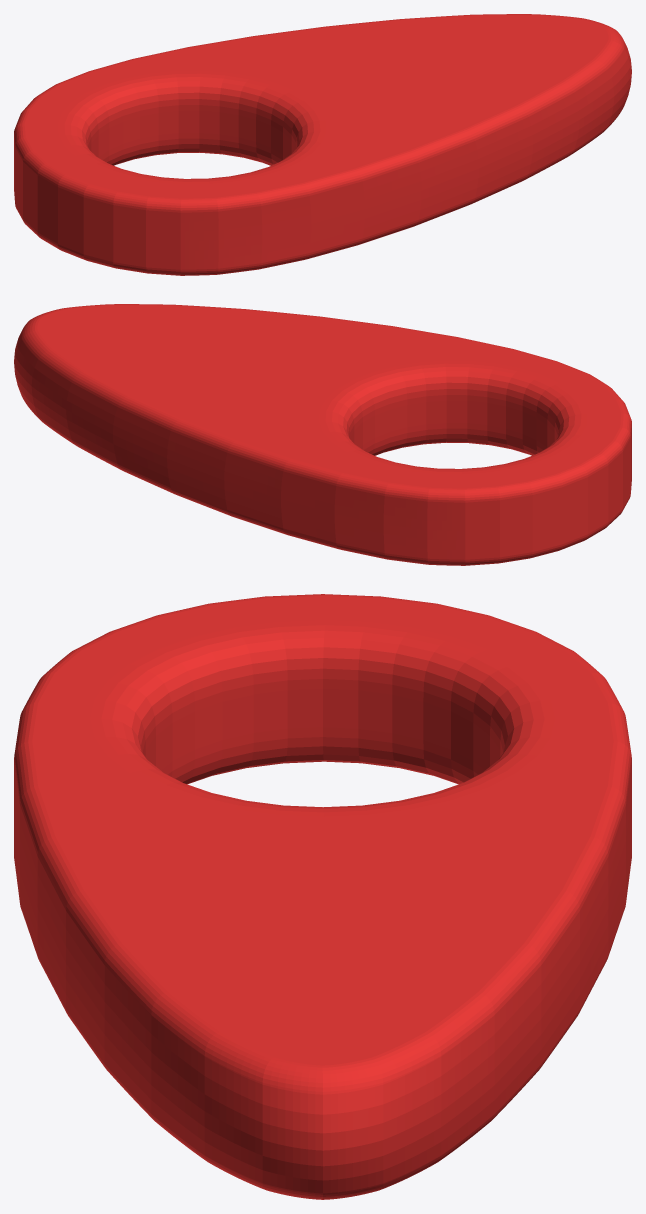
The model's file is marker.glb.
The picture shows the model from 3 angles, top to bottom: view 1: azimuth 30°, elevation 25°; view 2: azimuth 150°, elevation 25°; view 3: azimuth 270°, elevation 25°; orthographic projection. The views are drawn at different scales.
Visible parts, largest first — view 1: Cylinder; view 2: Cylinder; view 3: Cylinder.
Boxes of the visible parts, box(x1,y1,x2,y2) form: Cylinder: box(14, 14, 631, 275); Cylinder: box(14, 304, 631, 565); Cylinder: box(14, 594, 631, 1199).
Bounding box in the file's own units: 3.8 × 0.47 × 2.
